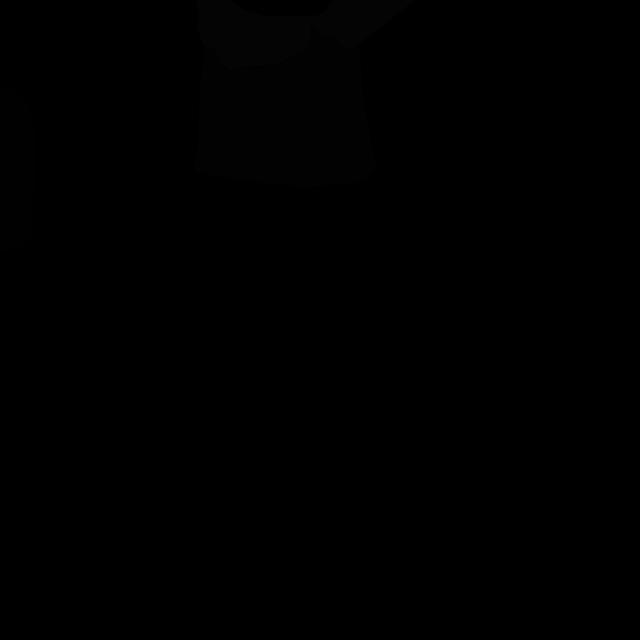cardboard: (194, 22, 376, 187)
rigid_plastic: (0, 85, 36, 252)
soft_plastic: (196, 0, 416, 71)
